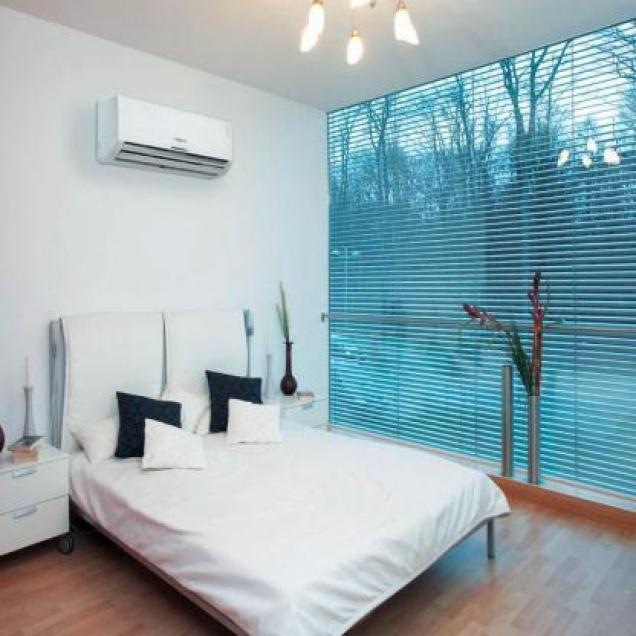AC: (96, 93, 235, 182)
